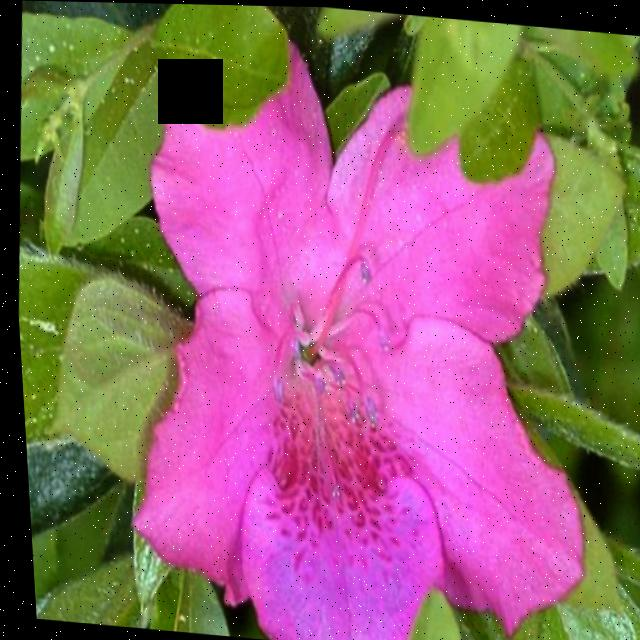azalea: (92, 53, 608, 640)
